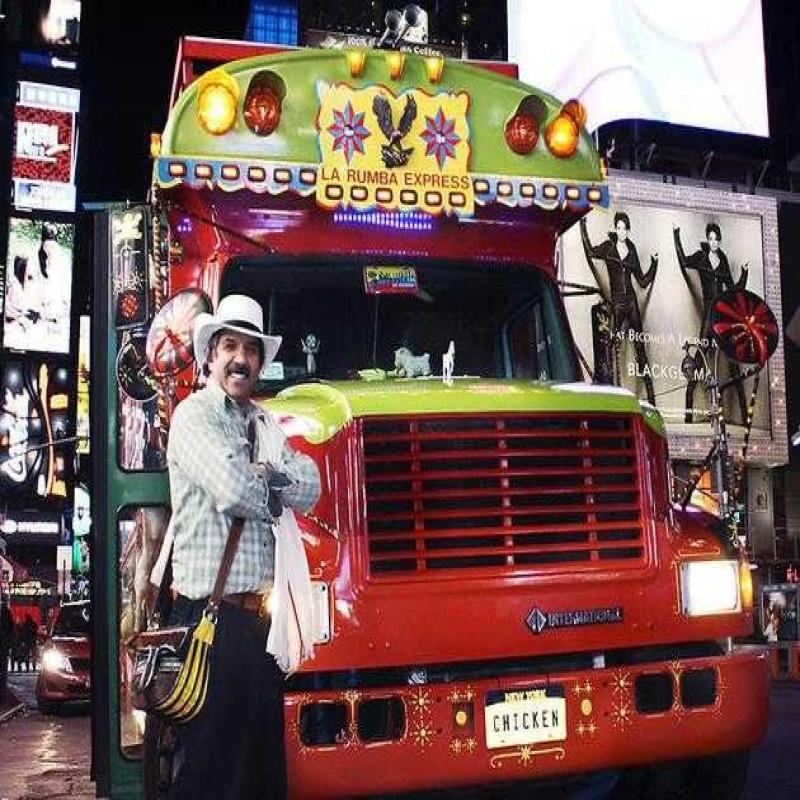bus: (161, 72, 741, 794)
